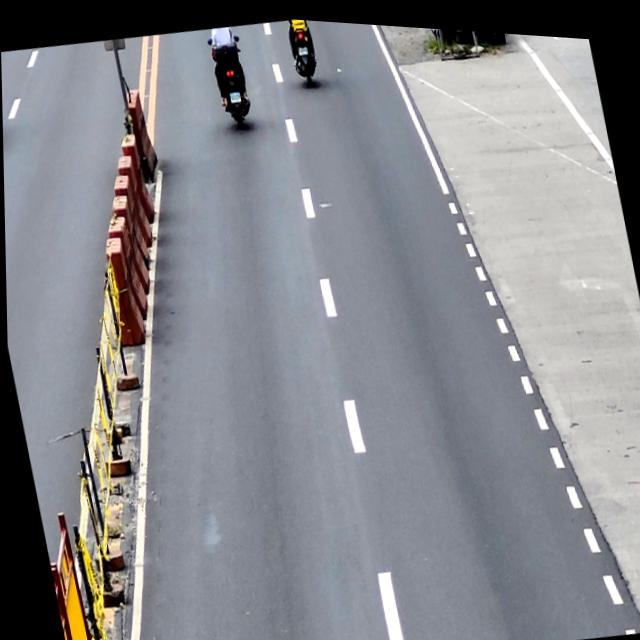License-Plate: (227, 86, 241, 100), (297, 40, 309, 52)
Motorcycle: (207, 30, 254, 129), (284, 15, 321, 86)
